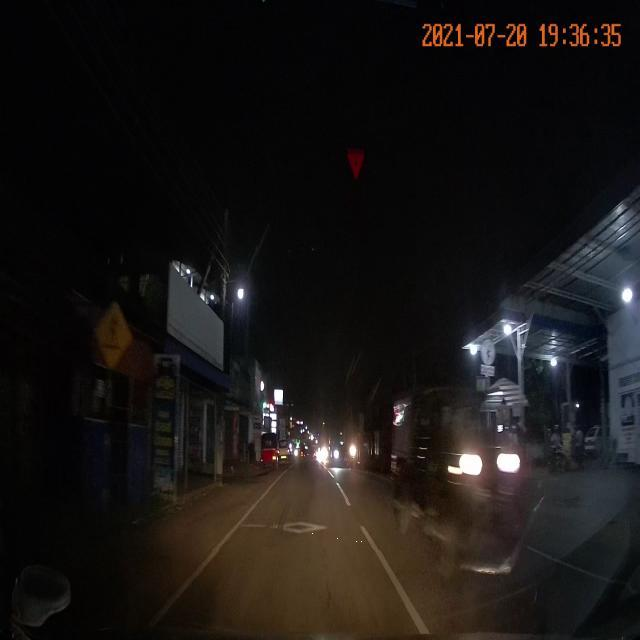diamond: (210, 501, 388, 550)
